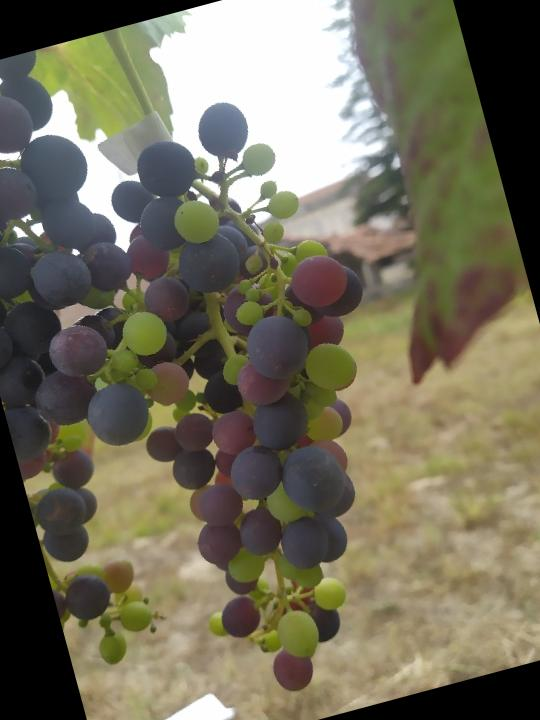grape: (0, 75, 464, 720)
